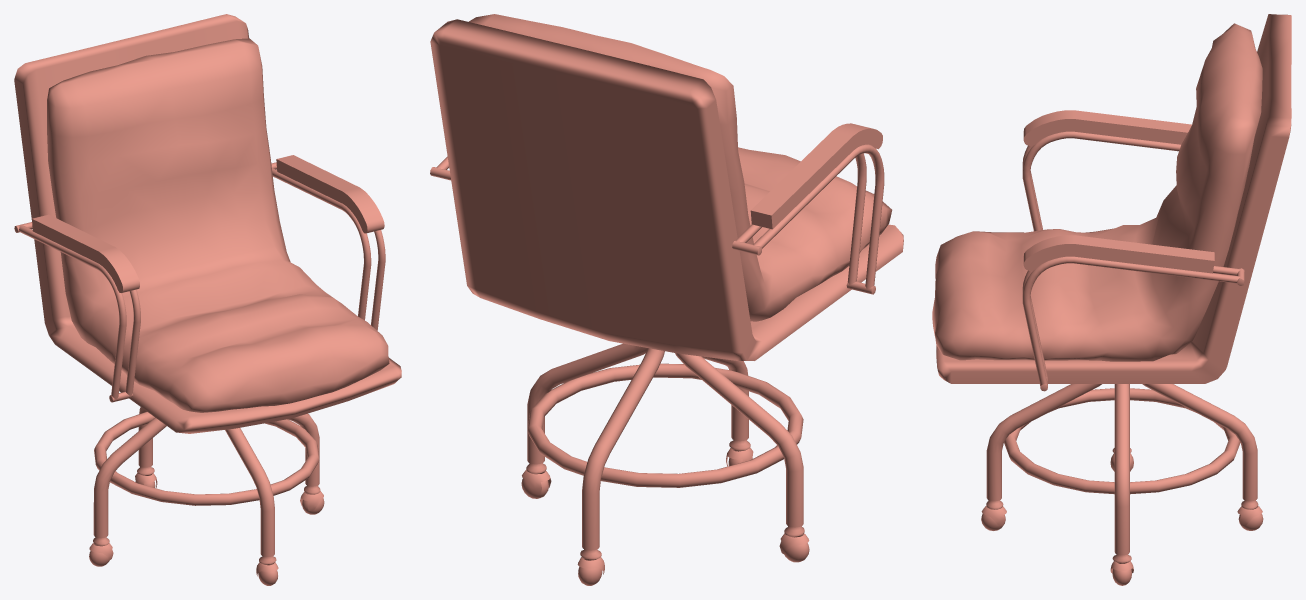
Rendered from SM_chair.fbx.
3 renders of one model, left to right at view 1: azimuth 30°, elevation 25°; view 2: azimuth 150°, elevation 25°; view 3: azimuth 270°, elevation 25°, orthographic. The views are drawn at different scales.
Visible parts, largest first — view 1: chairtop, chairbottom; view 2: chairtop, chairbottom; view 3: chairtop, chairbottom.
Part boxes in pixels (left/top/right/bottom): chairtop: left=14, top=14, right=401, bottom=433; chairbottom: left=89, top=407, right=324, bottom=585; chairtop: left=430, top=14, right=903, bottom=360; chairbottom: left=521, top=343, right=809, bottom=585; chairtop: left=932, top=14, right=1291, bottom=391; chairbottom: left=981, top=384, right=1263, bottom=585.
Bounding box in the file's own units: 73.27 × 115 × 80.75.
